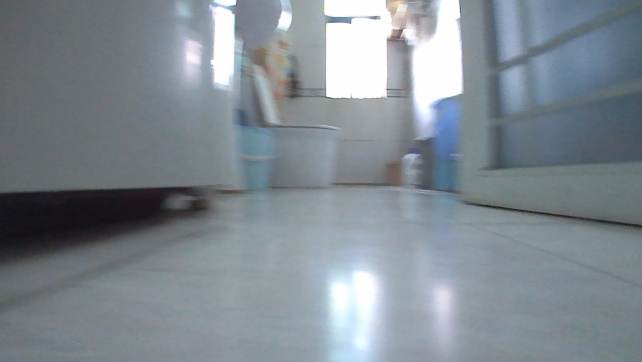door_anno: (450, 0, 641, 231)
toilet: (248, 65, 342, 190)
